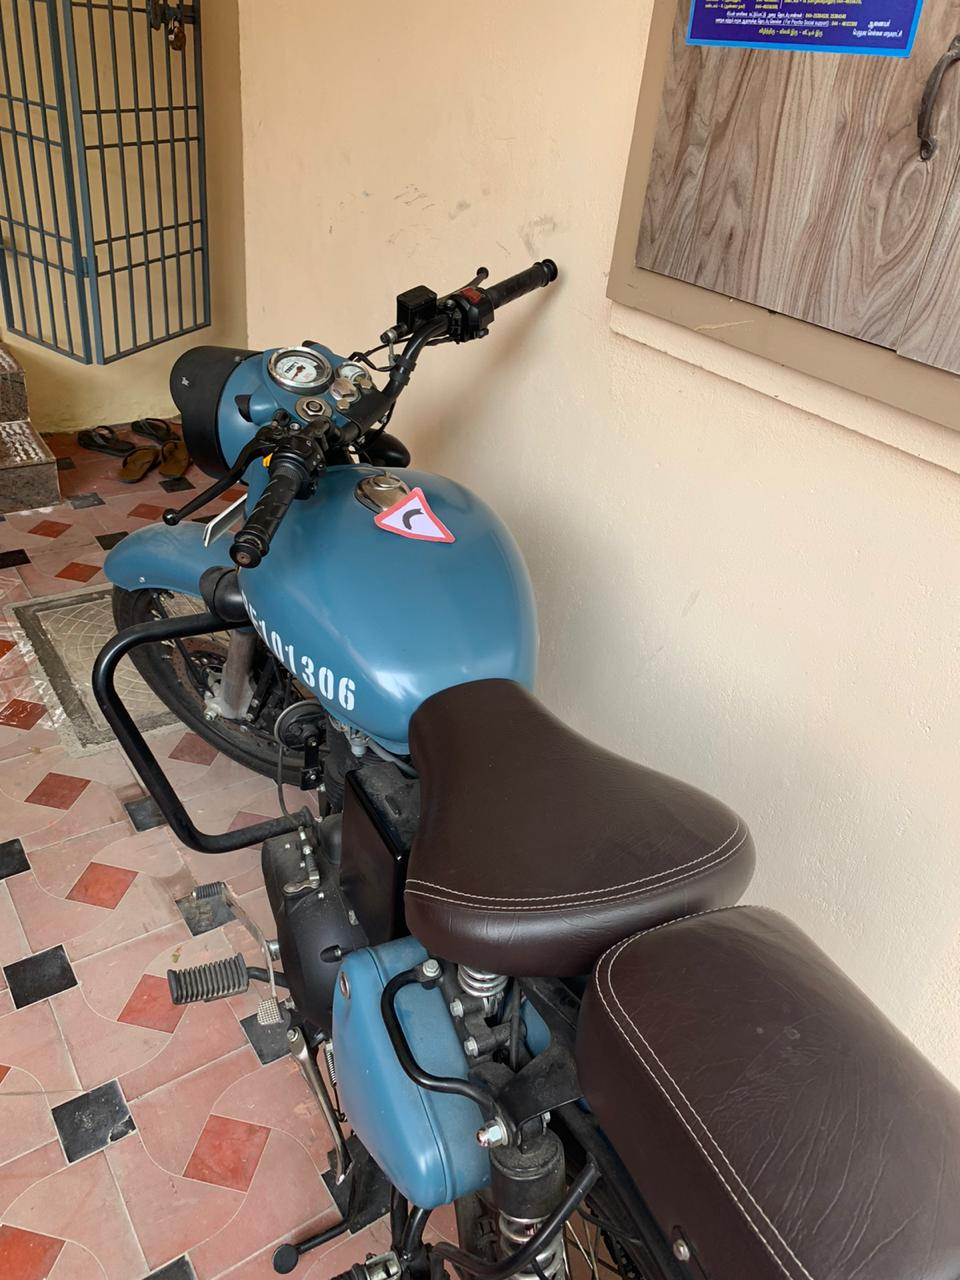LEFT CURVE: (360, 473, 476, 553)
